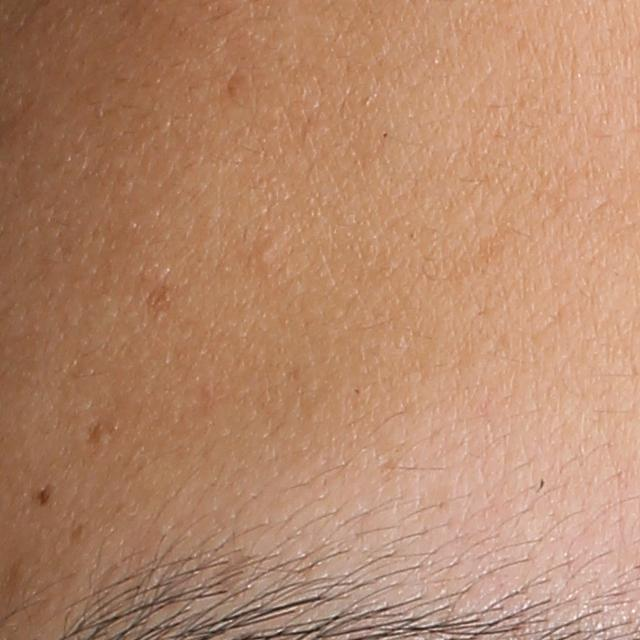comedo: (252, 239, 279, 269)
nevus: (35, 483, 57, 508)
